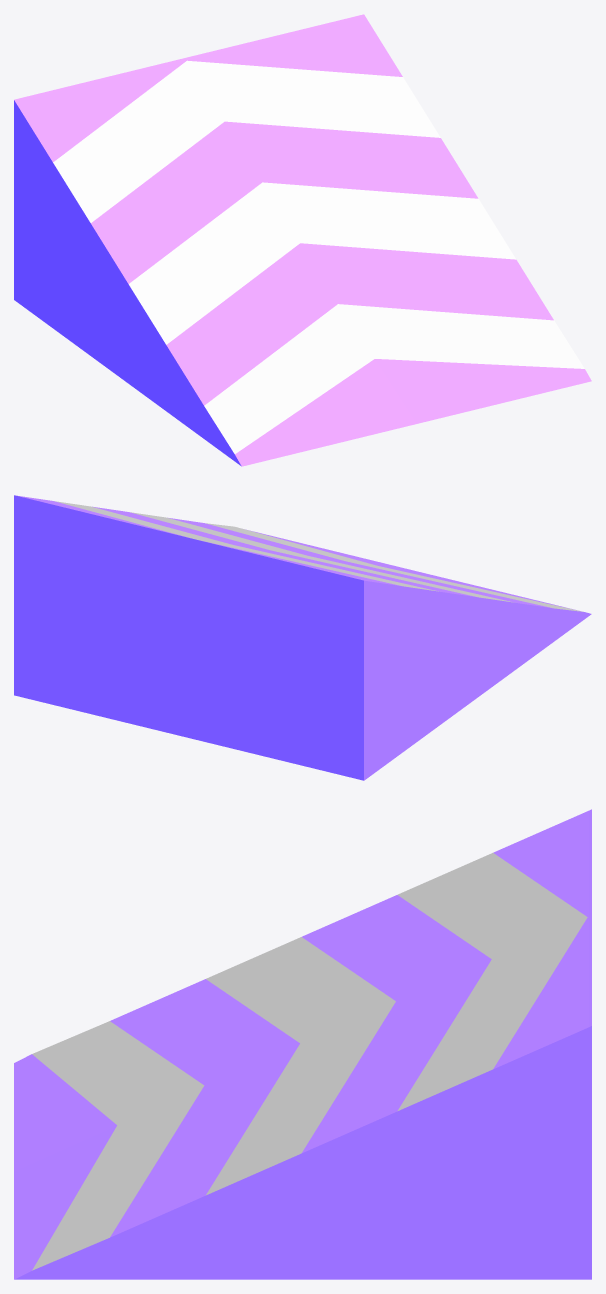
Rendered from rampa.fbx.
3 views of the same model, one above another, from view 1: azimuth 30°, elevation 25°; view 2: azimuth 150°, elevation 25°; view 3: azimuth 270°, elevation 25° (orthographic). The views are drawn at different scales.
Parts seen in each view (by area): view 1: Cube; view 2: Cube; view 3: Cube.
Boxes of the visible parts, bbox=[...] form: Cube: bbox=[14, 14, 591, 466]; Cube: bbox=[14, 495, 591, 780]; Cube: bbox=[14, 809, 591, 1279].
Size of the model in its own units: 297 by 162 by 335.
